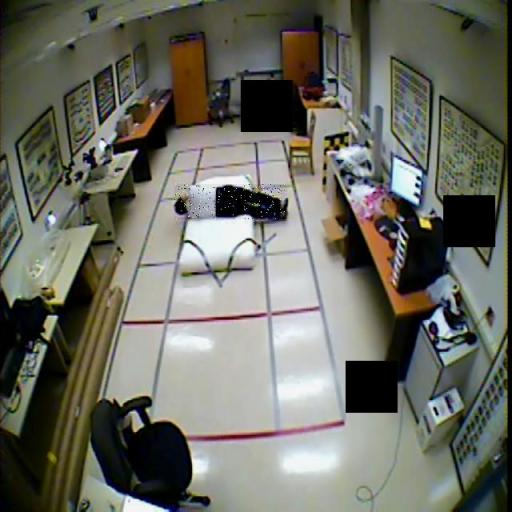Fall: (175, 185, 288, 220)
